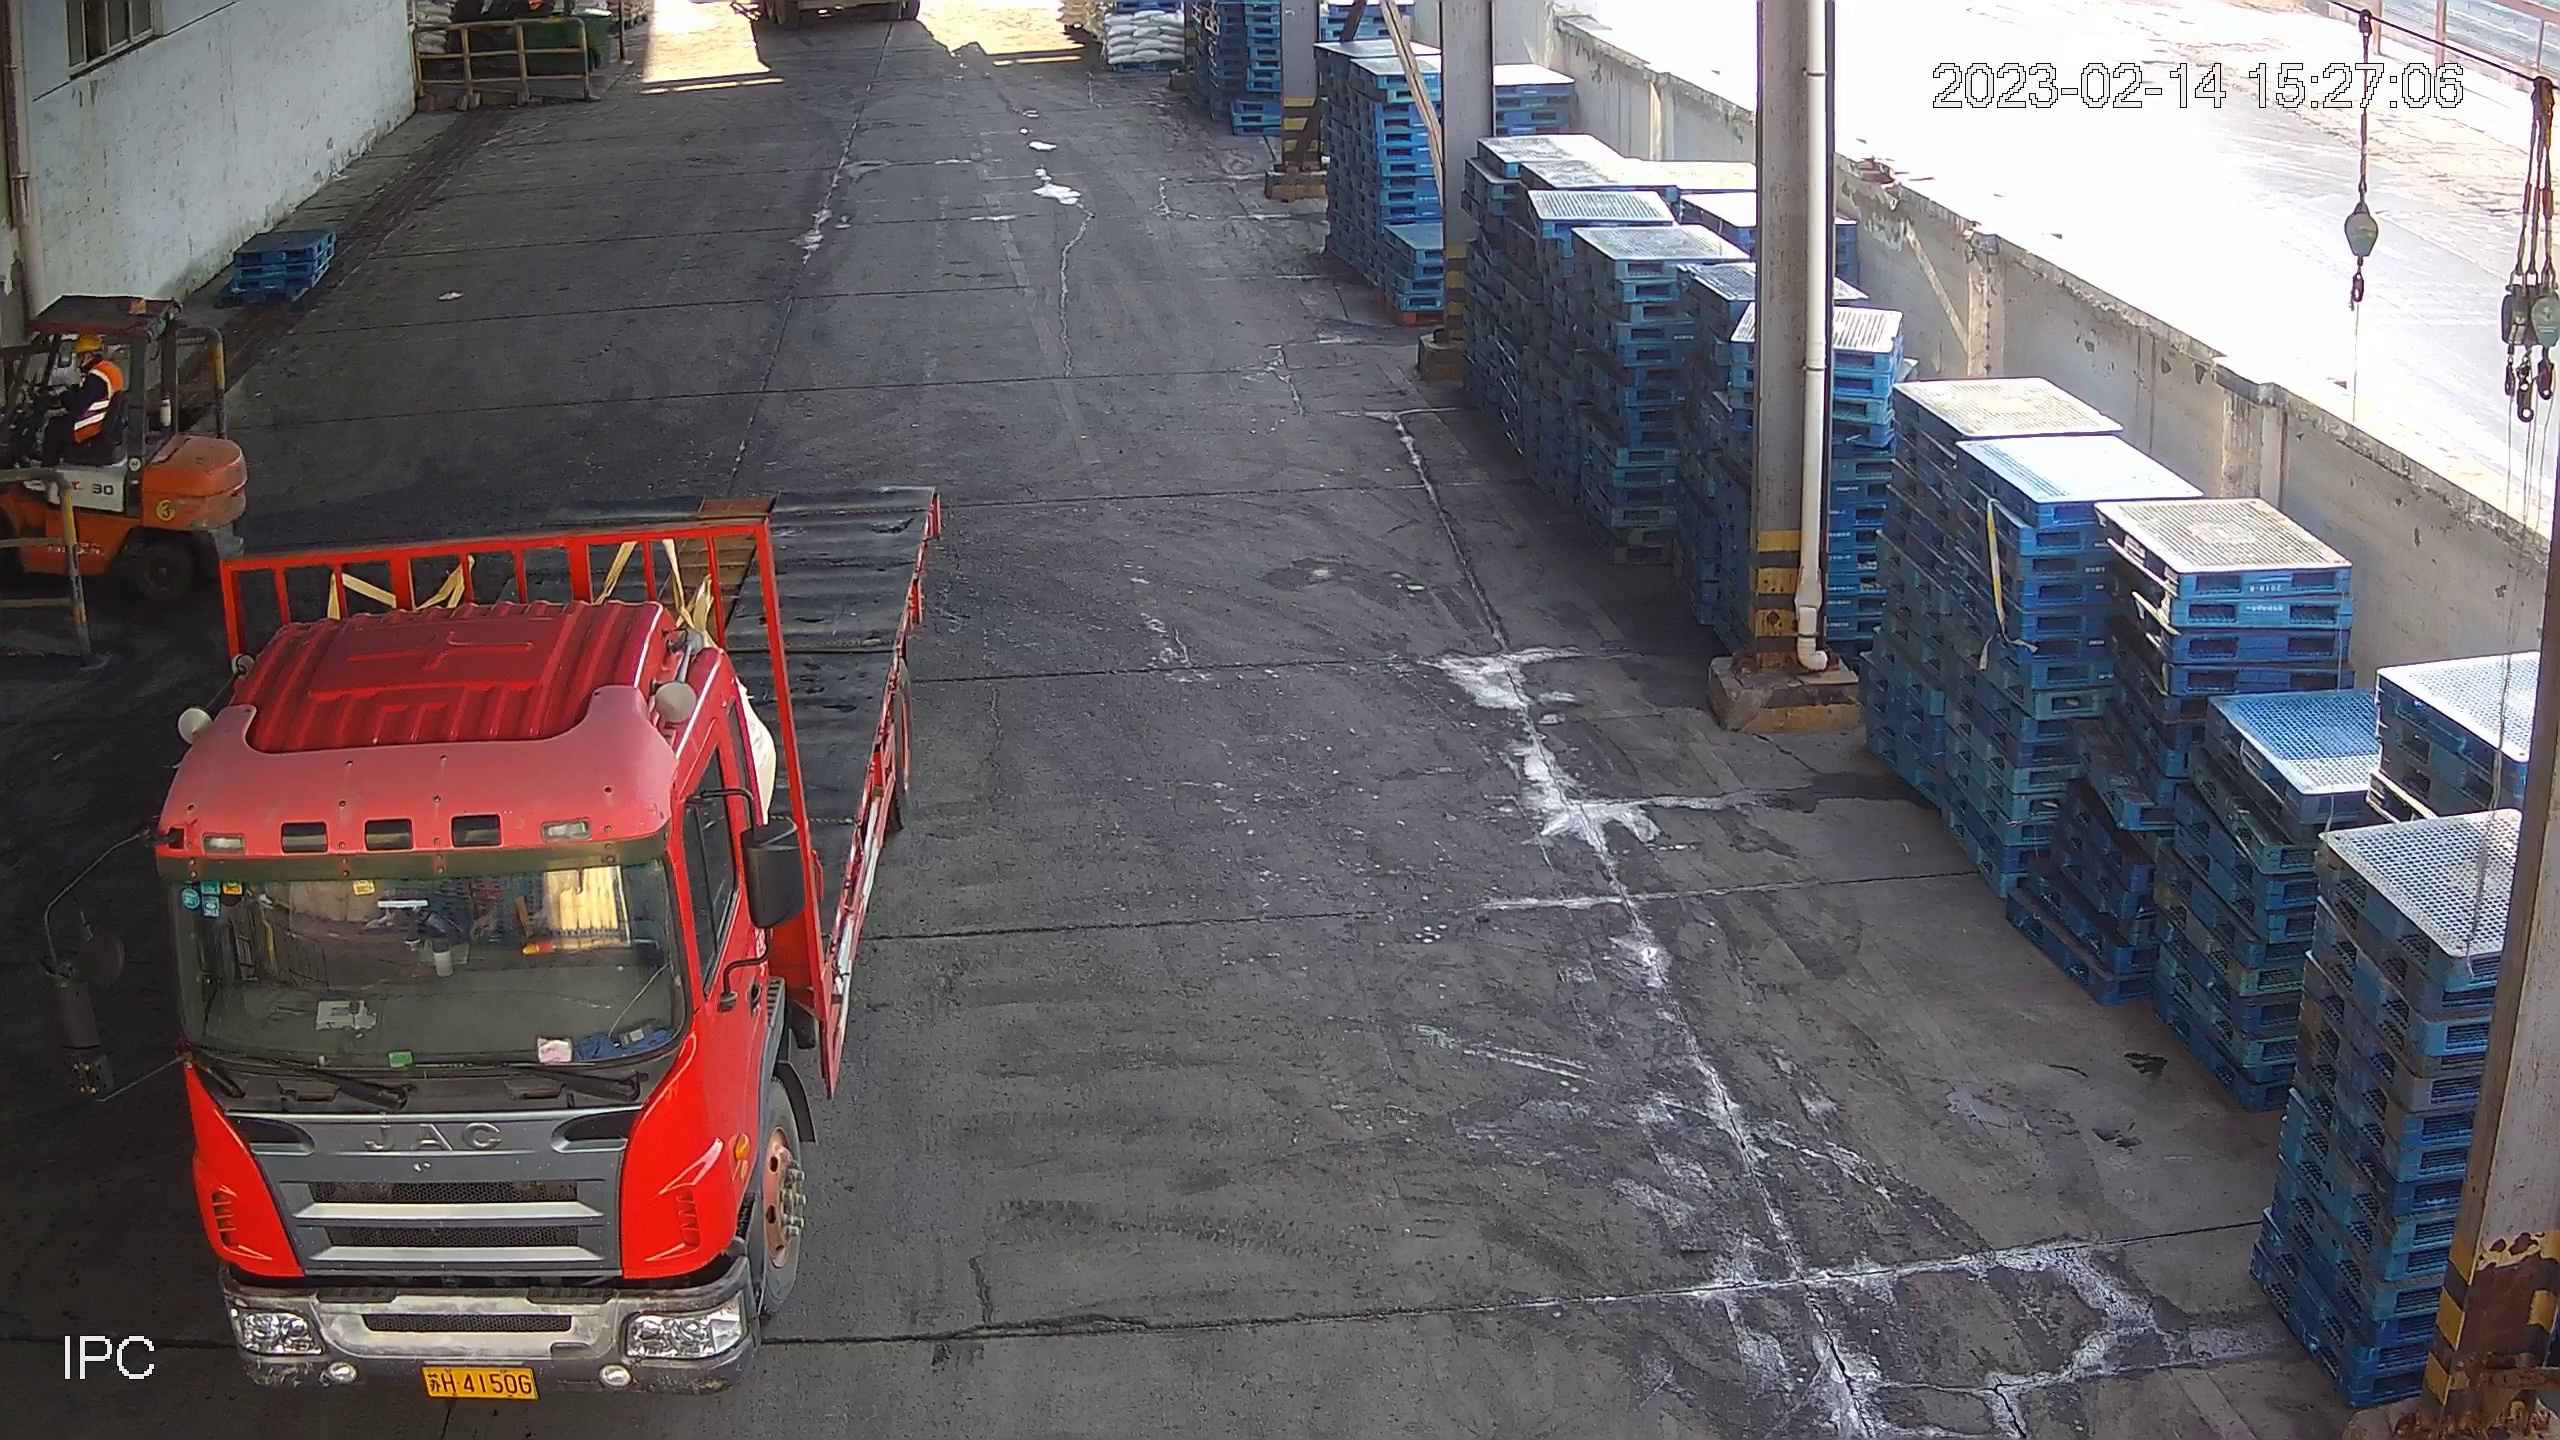head: (49, 332, 120, 410)
helmet: (75, 331, 100, 356)
people: (22, 333, 129, 491)
truck: (41, 480, 945, 1406)
